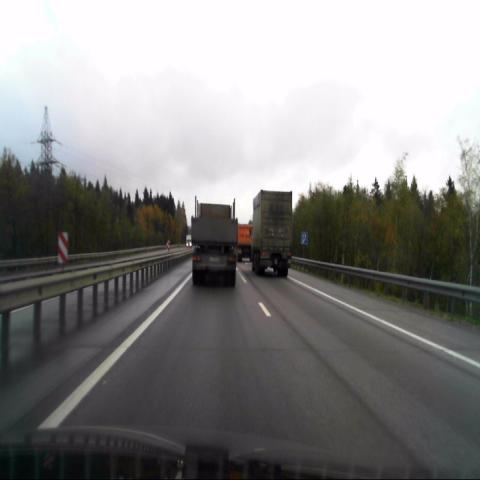5_15_3: (301, 231, 308, 244)
